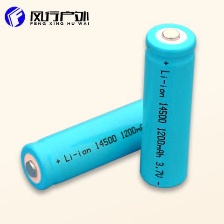battery: (19, 93, 170, 193), (136, 21, 199, 190)
